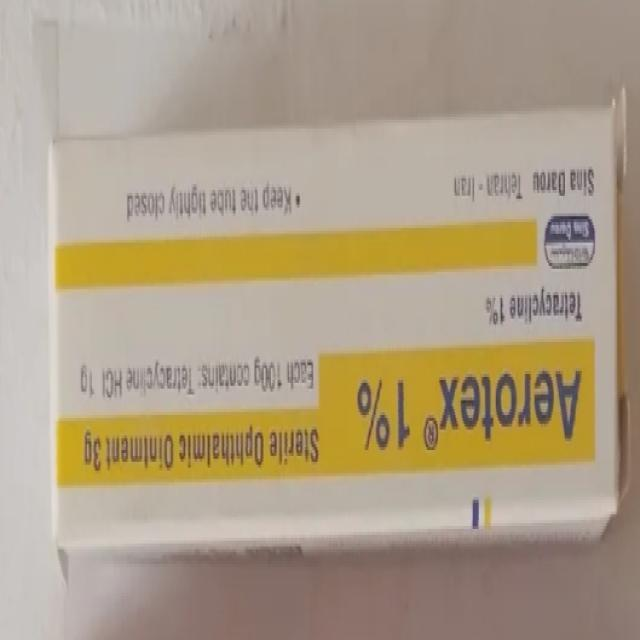drug-name: (353, 366, 585, 456)
